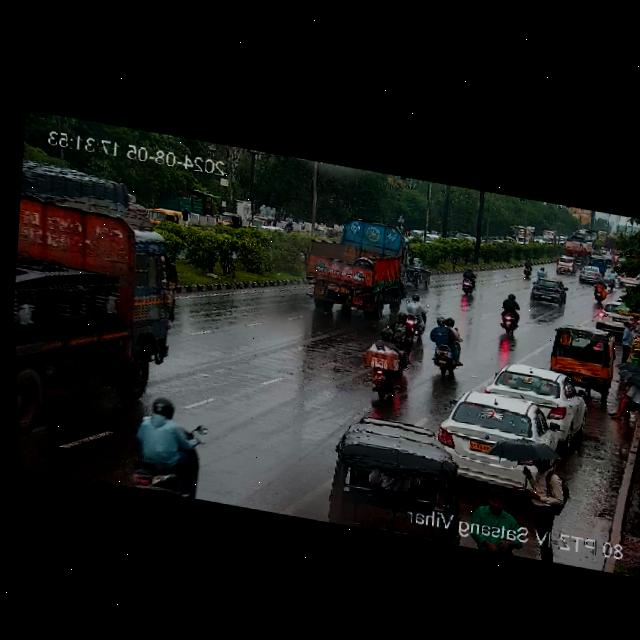car: (328, 406, 464, 513), (436, 388, 569, 473), (484, 358, 590, 433), (542, 321, 620, 393), (526, 275, 571, 308), (574, 263, 607, 287), (146, 207, 182, 226)
motorcycle: (127, 384, 210, 500), (423, 312, 468, 377), (495, 291, 527, 336), (454, 266, 481, 298)
person: (480, 435, 552, 503), (464, 481, 525, 529), (603, 376, 640, 428), (613, 354, 640, 418), (615, 317, 640, 360)
truck: (8, 181, 190, 404), (304, 212, 414, 318)
